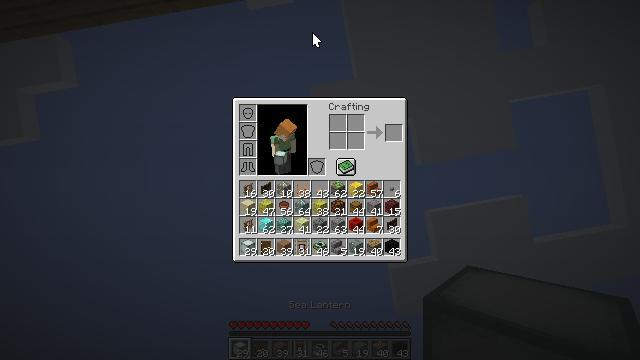cursor: (32, 312, 48, 322)
